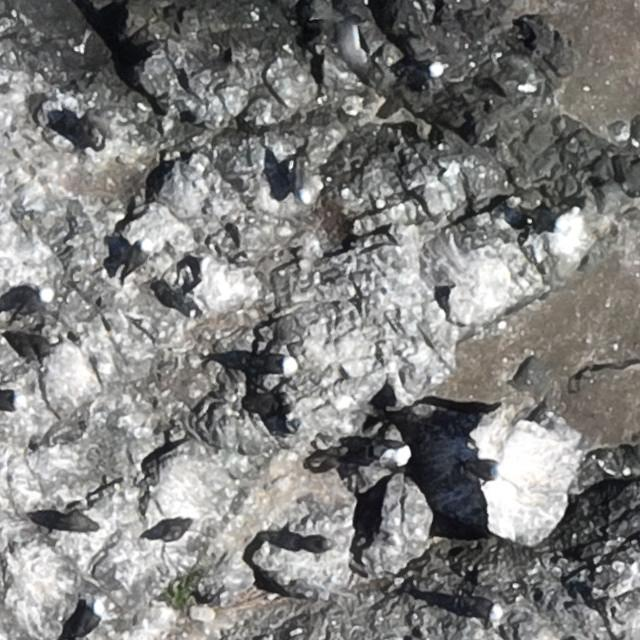F: (330, 16, 371, 72)
umineko: (70, 601, 105, 640), (17, 289, 56, 321), (461, 457, 507, 483), (248, 353, 298, 375), (464, 600, 505, 620), (128, 240, 153, 272), (419, 61, 445, 88), (383, 444, 411, 464), (298, 173, 316, 204), (2, 391, 28, 411)
